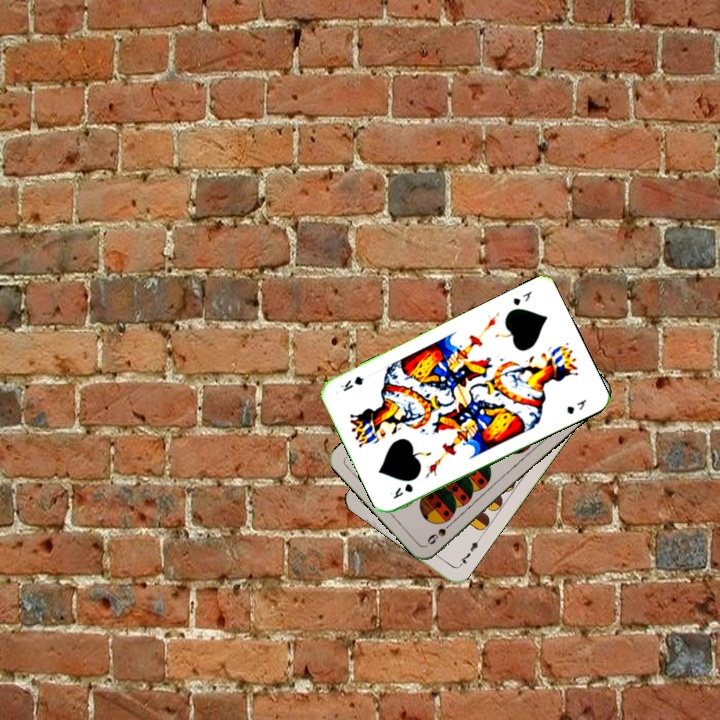E7: (454, 535, 483, 570)
GK: (389, 479, 416, 502), (509, 287, 535, 308)
S9: (423, 517, 457, 547)
